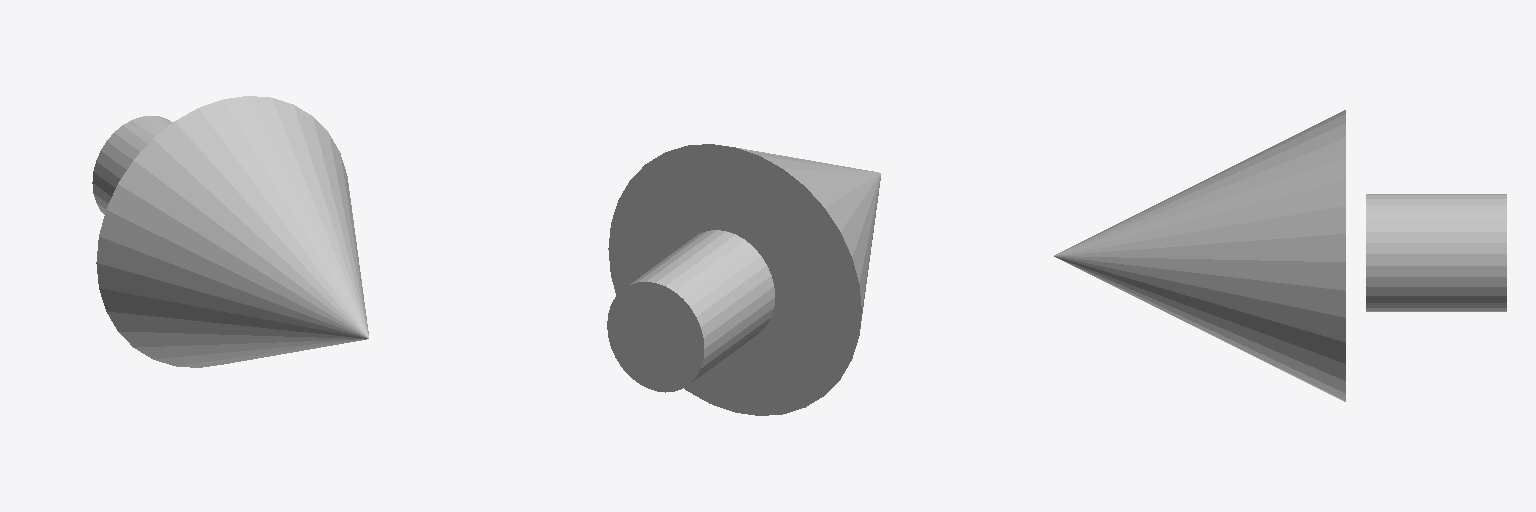
File: tree1.obj
3 renders of one model, left to right at view 1: azimuth 30°, elevation 25°; view 2: azimuth 150°, elevation 25°; view 3: azimuth 270°, elevation 25°, orthographic.
Visible parts, largest first — view 1: Cylinder; view 2: Cylinder; view 3: Cylinder.
Boxes of the visible parts, x1,y1,x2,y2 form: Cylinder: [92, 96, 368, 367]; Cylinder: [607, 144, 880, 415]; Cylinder: [1054, 110, 1506, 401].
Size of the model in its own units: 2.5 by 2.5 by 3.88.